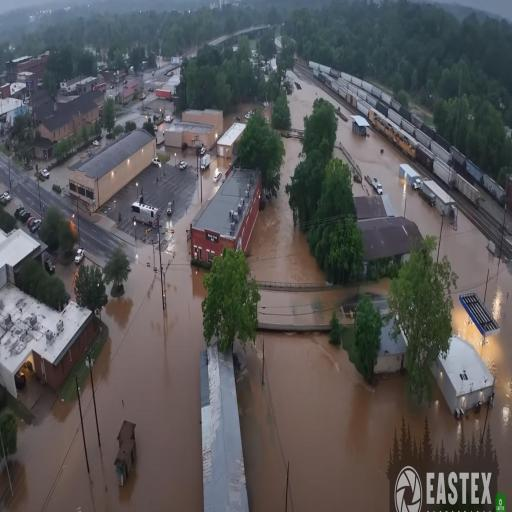flood: (265, 333, 487, 511), (99, 172, 206, 511), (0, 349, 136, 511), (441, 212, 512, 511), (337, 103, 442, 241), (249, 137, 315, 278), (237, 335, 286, 511), (290, 65, 338, 127), (202, 147, 229, 202)
house: (0, 227, 96, 401), (197, 342, 251, 512), (69, 126, 157, 212), (188, 168, 264, 267), (336, 192, 429, 261), (428, 336, 496, 422), (165, 107, 223, 157), (112, 416, 140, 496), (419, 176, 455, 222), (217, 118, 247, 162), (374, 341, 409, 378), (68, 97, 98, 125), (40, 114, 73, 139), (400, 162, 420, 190), (351, 114, 370, 140), (117, 87, 135, 103), (90, 88, 106, 106)
